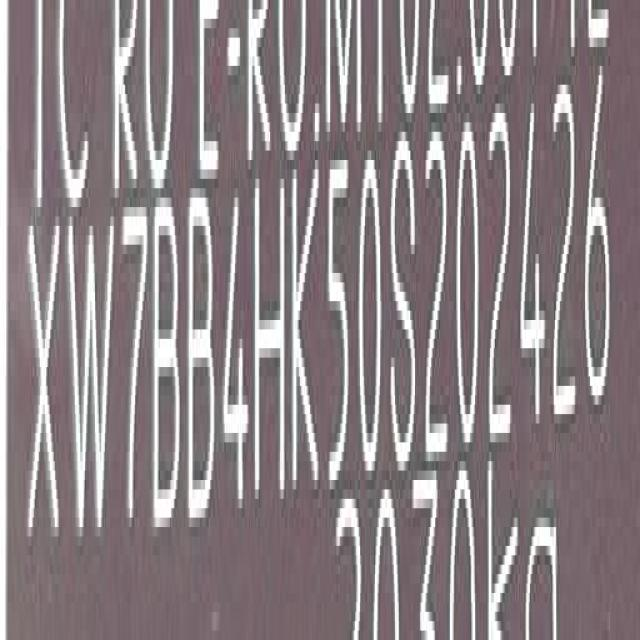0: (358, 140, 384, 477), (454, 119, 480, 452)
2: (425, 122, 453, 467), (553, 68, 580, 424), (487, 98, 512, 439)
4: (222, 186, 251, 524), (520, 89, 548, 432)
5: (326, 150, 352, 495)
6: (583, 62, 613, 404)
7: (120, 202, 150, 537)
B: (152, 197, 182, 540), (190, 194, 218, 538)
H: (254, 169, 286, 513)
K: (291, 157, 325, 509)
S: (389, 129, 419, 477)
W: (67, 209, 117, 537)
X: (27, 220, 62, 565)
